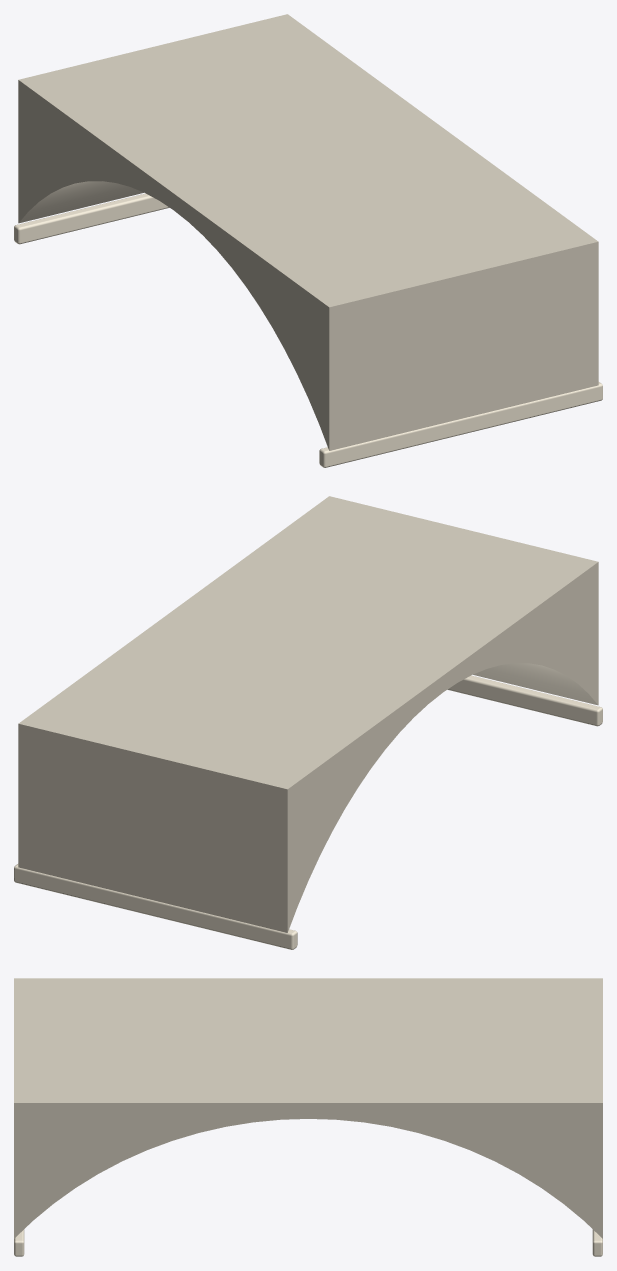
File: arch2.glb
The picture shows the model from 3 angles, top to bottom: view 1: azimuth 30°, elevation 25°; view 2: azimuth 150°, elevation 25°; view 3: azimuth 270°, elevation 25°; orthographic projection. The views are drawn at different scales.
Visible parts, largest first — view 1: bogen, kaempfer-1, kaempfer1; view 2: bogen, kaempfer1, kaempfer-1; view 3: bogen.
Boxes of the visible parts, x1,y1,x2,y2 form: bogen: (18, 14, 598, 450); kaempfer-1: (319, 382, 602, 467); kaempfer1: (14, 193, 169, 244); bogen: (18, 496, 598, 932); kaempfer1: (14, 864, 297, 949); kaempfer-1: (447, 675, 602, 726); bogen: (14, 978, 602, 1238).
Bounding box in the file's own units: 1.04 × 0.57 × 2.
